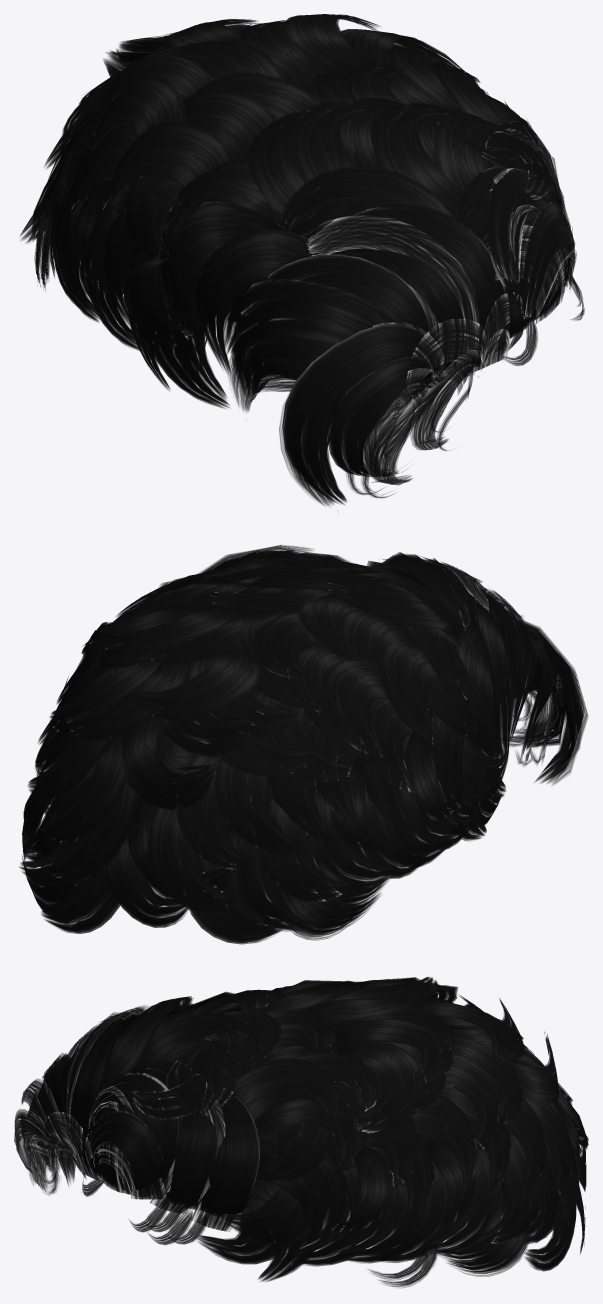
Rendered from Straight_SlickBack.glb.
3 renders of one model, top to bottom at view 1: azimuth 30°, elevation 25°; view 2: azimuth 150°, elevation 25°; view 3: azimuth 270°, elevation 25°, orthographic. The views are drawn at different scales.
Parts seen in each view (by area): view 1: s4studio_mesh_4001; view 2: s4studio_mesh_4001; view 3: s4studio_mesh_4001.
Part boxes in pixels (box(x1,y1,x2,y2)): s4studio_mesh_4001: box(20, 14, 584, 506); s4studio_mesh_4001: box(19, 545, 587, 944); s4studio_mesh_4001: box(14, 976, 588, 1287).
Size of the model in its own units: 0.1548 by 0.1062 by 0.2281.
1 material, 1 textured.
